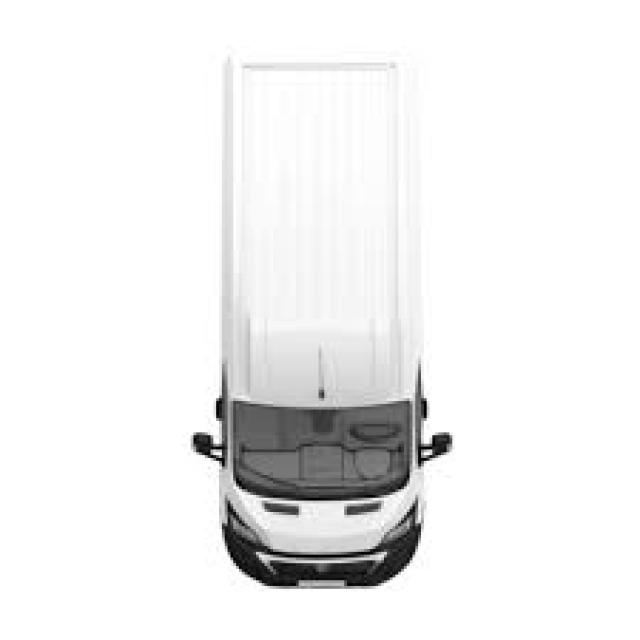truck: (221, 51, 423, 590)
